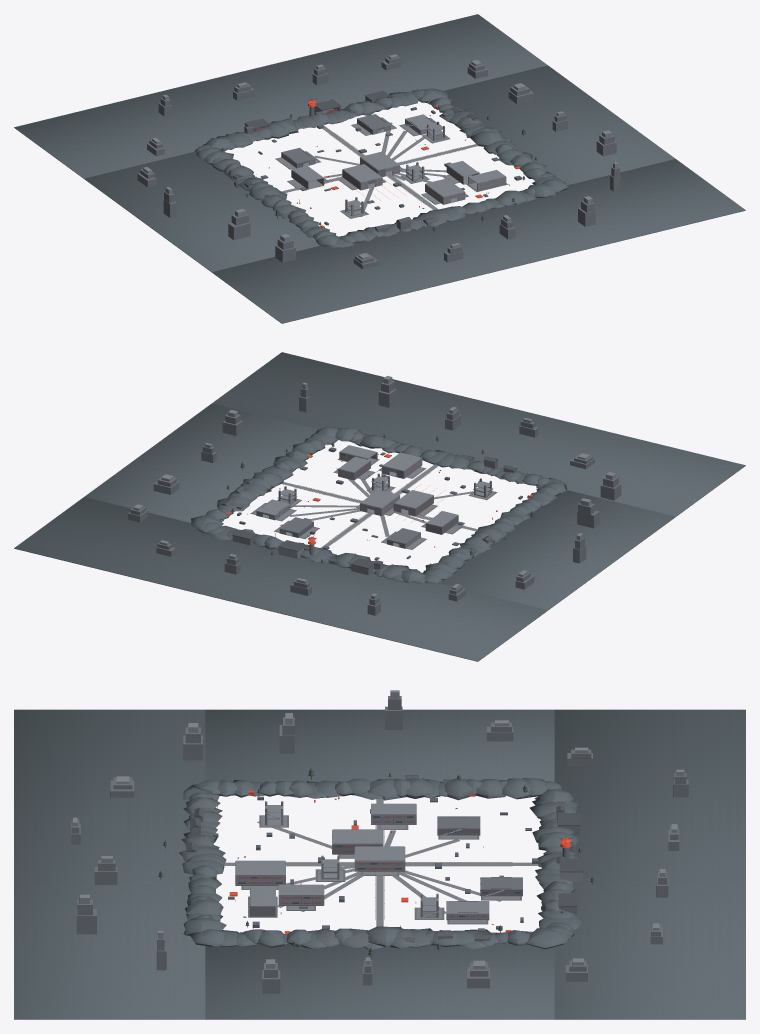
File: kunren-lod1.glb
3 renders of one model, top to bottom at view 1: azimuth 30°, elevation 25°; view 2: azimuth 150°, elevation 25°; view 3: azimuth 270°, elevation 25°, orthographic. The views are drawn at different scales.
Parts seen in each view (by area): view 1: HB_kunren_LOD1_terrain, HB_kunren_LOD1_wall_alt, HB_kunren_LOD1_wall, HB_kunren_LOD1_road, HB_kunren_LOD1_trim, HB_kunren_LOD1_obstacle; view 2: HB_kunren_LOD1_terrain, HB_kunren_LOD1_wall_alt, HB_kunren_LOD1_wall, HB_kunren_LOD1_road, HB_kunren_LOD1_trim, HB_kunren_LOD1_obstacle; view 3: HB_kunren_LOD1_terrain, HB_kunren_LOD1_wall_alt, HB_kunren_LOD1_wall, HB_kunren_LOD1_road, HB_kunren_LOD1_trim, HB_kunren_LOD1_obstacle, HB_kunren_LOD1_glass.
Boxes of the visible parts, x1,y1,x2,y2 form: HB_kunren_LOD1_terrain: (14, 14, 745, 323); HB_kunren_LOD1_wall_alt: (137, 56, 620, 269); HB_kunren_LOD1_wall: (143, 54, 618, 259); HB_kunren_LOD1_road: (275, 117, 507, 218); HB_kunren_LOD1_trim: (231, 90, 536, 231); HB_kunren_LOD1_obstacle: (258, 101, 521, 225); HB_kunren_LOD1_terrain: (14, 352, 745, 661); HB_kunren_LOD1_wall_alt: (128, 380, 621, 615); HB_kunren_LOD1_wall: (133, 376, 616, 599); HB_kunren_LOD1_road: (250, 459, 497, 549); HB_kunren_LOD1_trim: (221, 441, 532, 568); HB_kunren_LOD1_obstacle: (219, 447, 537, 560); HB_kunren_LOD1_terrain: (14, 709, 745, 1019); HB_kunren_LOD1_wall_alt: (71, 696, 688, 993); HB_kunren_LOD1_wall: (72, 690, 684, 969); HB_kunren_LOD1_road: (224, 798, 538, 926); HB_kunren_LOD1_trim: (160, 775, 592, 957); HB_kunren_LOD1_obstacle: (212, 790, 538, 933); HB_kunren_LOD1_glass: (202, 812, 560, 940).
Bounding box in the file's own units: 650 × 36.28 × 650.
10 materials, 8 textured.
